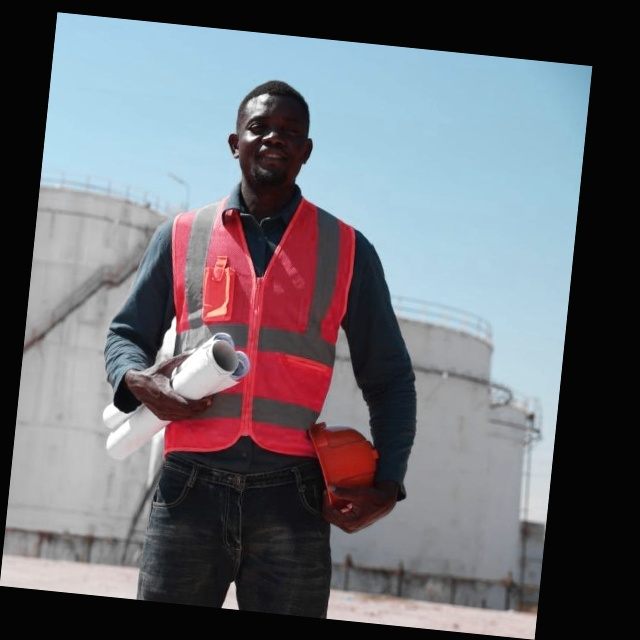Con_Chaleco: (148, 189, 363, 471)
Sin_Casco_Mascarrilla: (222, 75, 318, 203)
